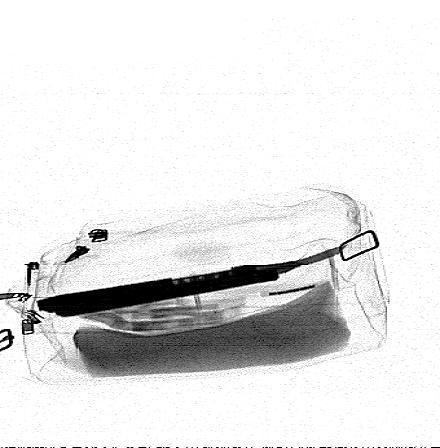Knife: (35, 243, 350, 318)
